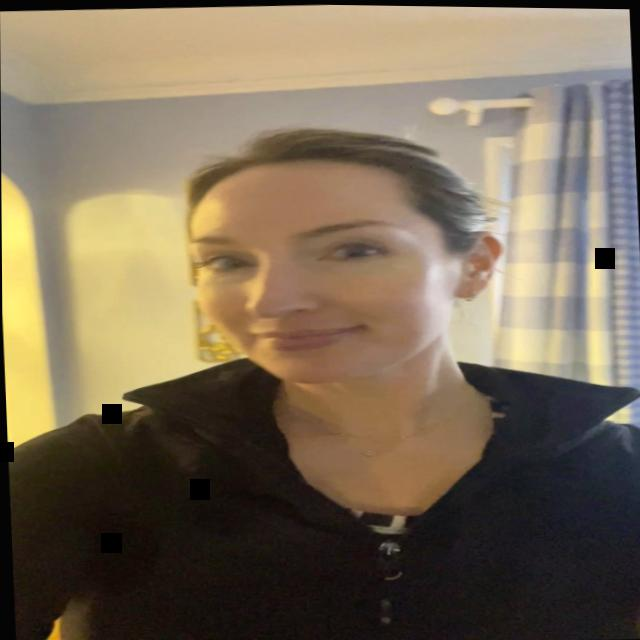NO-Mask: (174, 137, 491, 413)
